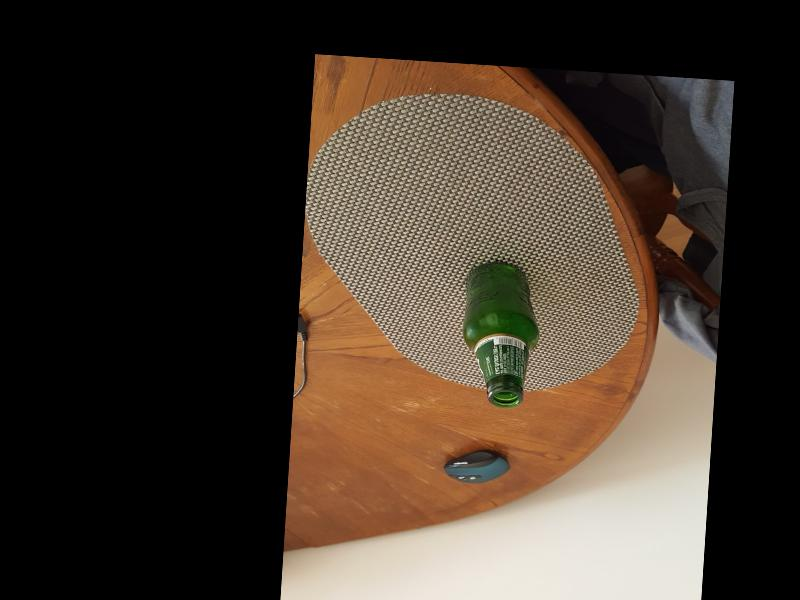Beer: (454, 259, 545, 410)
